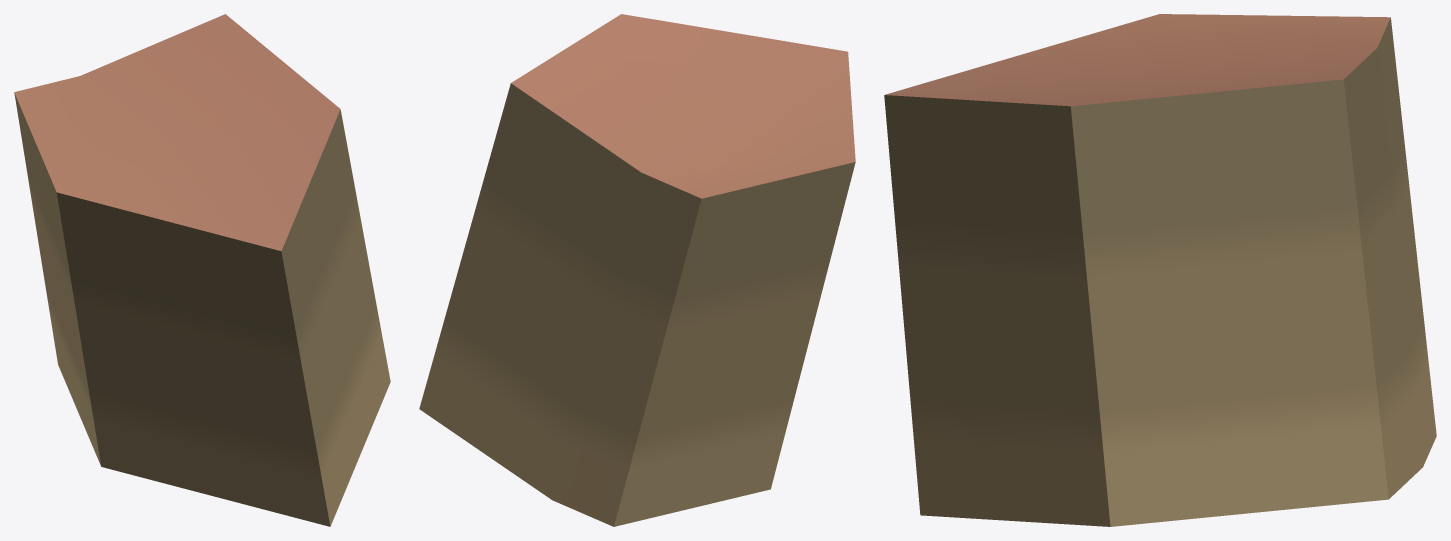
The model's file is 0648_Sierra_Leone.glb.
3 views of the same model, side by side, from view 1: azimuth 30°, elevation 25°; view 2: azimuth 150°, elevation 25°; view 3: azimuth 270°, elevation 25° (orthographic). The views are drawn at different scales.
Visible parts, largest first — view 1: part_0; view 2: part_0; view 3: part_0.
Part boxes in pixels (bbox=[...]): part_0: bbox=[14, 14, 390, 526]; part_0: bbox=[419, 14, 855, 526]; part_0: bbox=[884, 14, 1436, 526].
Bounding box in the file's own units: 0.2126 × 0.2423 × 0.2557.
1 material, 1 textured.
